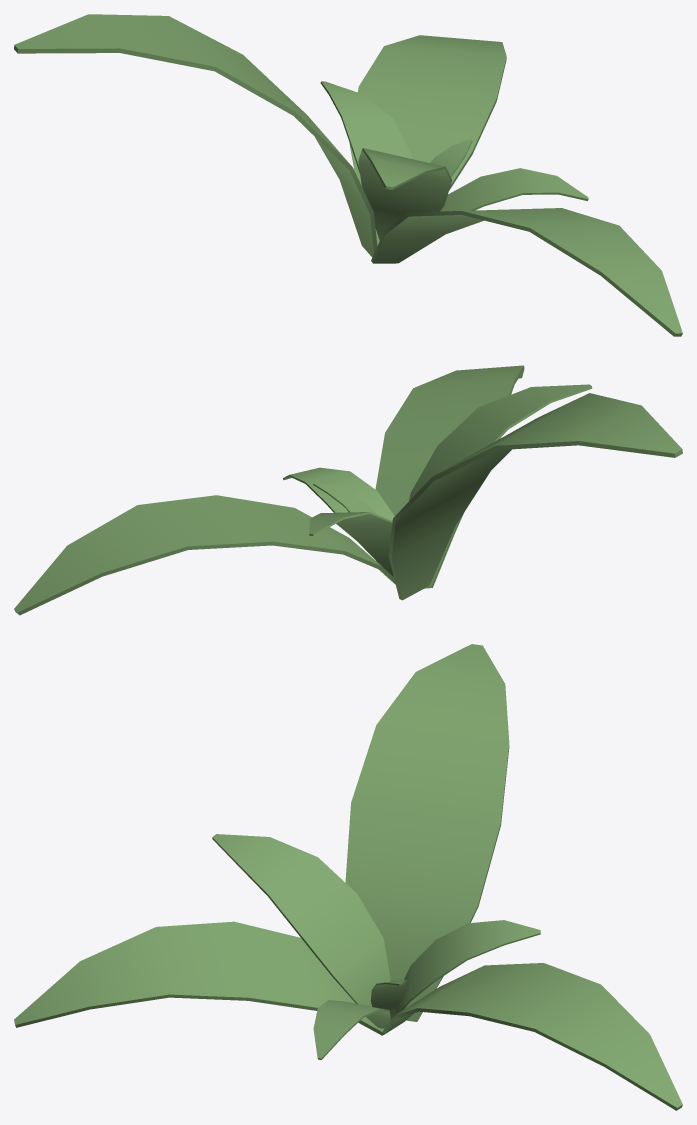
Rendered from Plants_Pack_Leaf_04.002.fbx.
3 views of the same model, one above another, from view 1: azimuth 30°, elevation 25°; view 2: azimuth 150°, elevation 25°; view 3: azimuth 270°, elevation 25° (orthographic). The views are drawn at different scales.
Visible parts, largest first — view 1: Plants_Pack_Leaf_04.002; view 2: Plants_Pack_Leaf_04.002; view 3: Plants_Pack_Leaf_04.002.
Boxes of the visible parts, left/top/right/bottom form: Plants_Pack_Leaf_04.002: left=14, top=14, right=682, bottom=336; Plants_Pack_Leaf_04.002: left=14, top=365, right=682, bottom=615; Plants_Pack_Leaf_04.002: left=14, top=644, right=682, bottom=1110.
Bounding box in the file's own units: 98.62 × 43.7 × 108.
